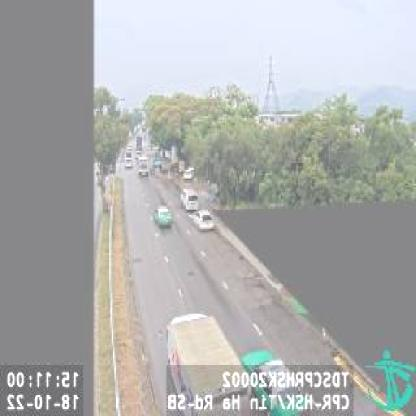Car: (240, 350, 314, 415), (179, 186, 200, 210), (192, 209, 215, 230), (154, 204, 174, 228), (124, 156, 134, 170)
Truck: (166, 312, 252, 409), (136, 156, 148, 178)
